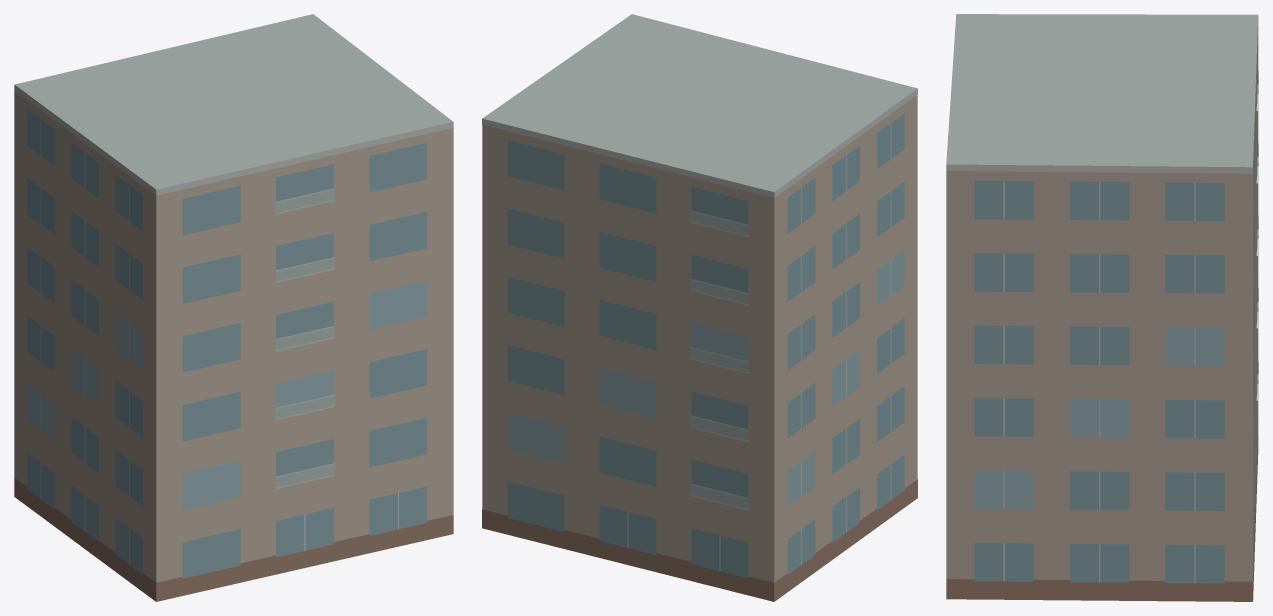
Rendered from survey-upis-33027373.glb.
3 renders of one model, left to right at view 1: azimuth 30°, elevation 25°; view 2: azimuth 150°, elevation 25°; view 3: azimuth 270°, elevation 25°, orthographic. The views are drawn at different scales.
Visible parts, largest first — view 1: survey-upis-33027373.tmp; view 2: survey-upis-33027373.tmp; view 3: survey-upis-33027373.tmp.
Part boxes in pixels (box(x1,y1,x2,y2)): survey-upis-33027373.tmp: box(14, 14, 453, 601); survey-upis-33027373.tmp: box(482, 14, 917, 601); survey-upis-33027373.tmp: box(946, 14, 1258, 601).
Bounding box in the file's own units: 12.55 × 16.6 × 10.83.
